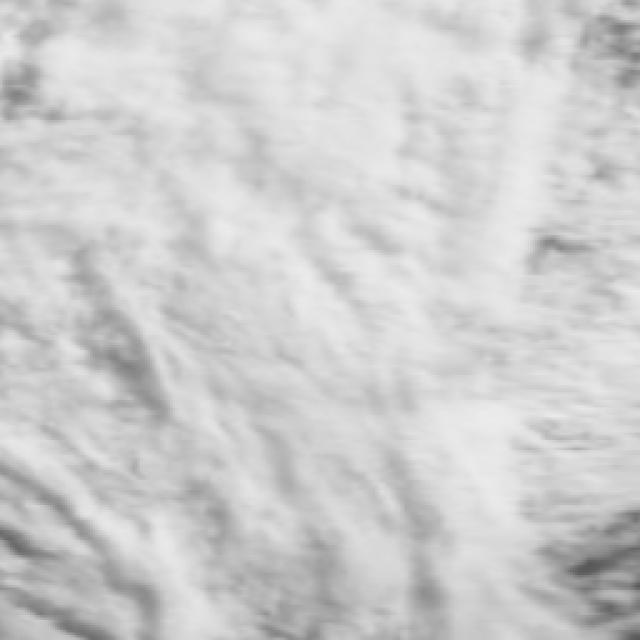CB: (229, 160, 472, 376), (147, 0, 449, 151), (6, 155, 213, 370), (158, 380, 384, 554), (404, 399, 572, 585), (482, 31, 597, 253)
